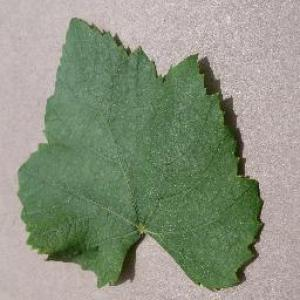Folha: (16, 15, 265, 292)
